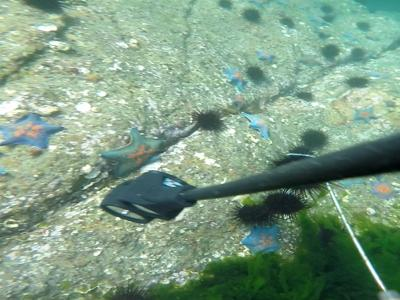urchin: (267, 193, 309, 219), (193, 108, 225, 132), (237, 204, 273, 225), (298, 129, 322, 149), (247, 65, 265, 84), (349, 74, 366, 87), (242, 11, 261, 22), (299, 93, 313, 105), (324, 45, 338, 57)
